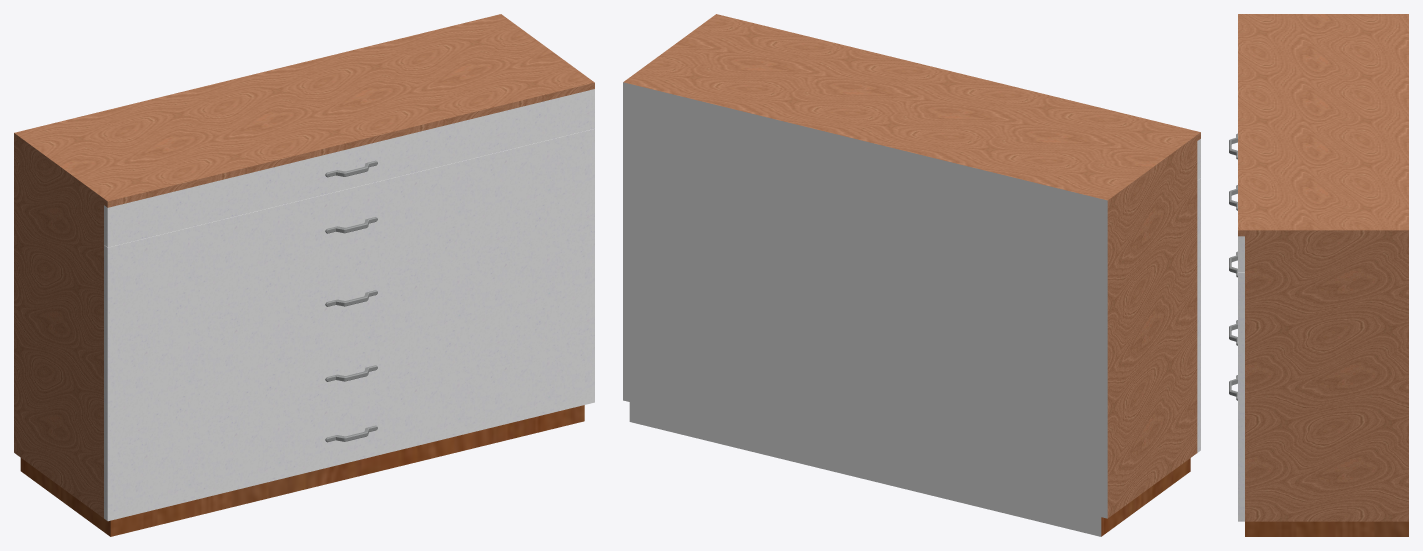
Rendered from Komod.glb.
The picture shows the model from 3 angles, left to right: view 1: azimuth 30°, elevation 25°; view 2: azimuth 150°, elevation 25°; view 3: azimuth 270°, elevation 25°; orthographic projection. The views are drawn at different scales.
Parts seen in each view (by area): view 1: SketchUp.003, SketchUp.001, SketchUp.002, SketchUp.005; view 2: SketchUp, SketchUp.001, SketchUp.005, SketchUp.003; view 3: SketchUp.001, SketchUp.005, SketchUp.003, SketchUp.002.
Part boxes in pixels (box(x1,y1,x2,y2)): SketchUp.003: box(104, 129, 594, 521); SketchUp.001: box(14, 14, 594, 518); SketchUp.002: box(104, 89, 594, 247); SketchUp.005: box(20, 405, 584, 536); SketchUp: box(623, 82, 1107, 536); SketchUp.001: box(623, 14, 1200, 518); SketchUp.005: box(1101, 458, 1190, 536); SketchUp.003: box(1197, 178, 1200, 452); SketchUp.001: box(1238, 14, 1408, 521); SketchUp.005: box(1245, 521, 1408, 536); SketchUp.003: box(1238, 272, 1244, 521); SketchUp.002: box(1238, 236, 1244, 272).
Bounding box in the file's own units: 1.5 × 1 × 0.5263.
Materials: 5 (3 with a texture image).
